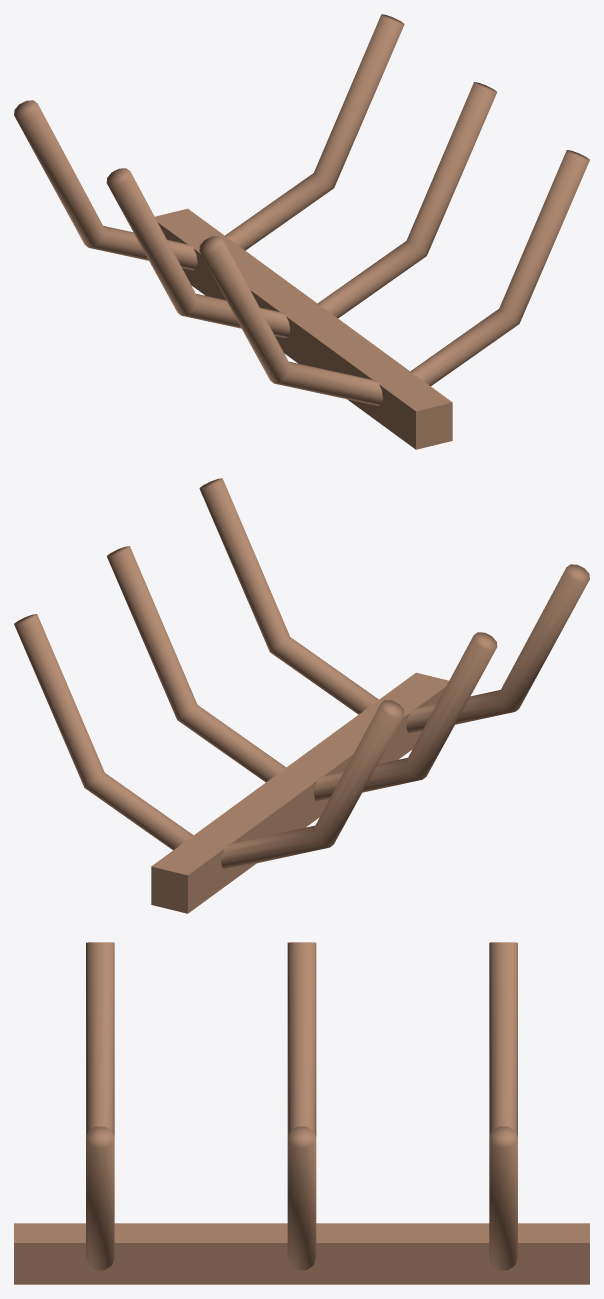
The model's file is underwater-reef-worlds-rib-frame-bb5f0a4c__7060.glb.
3 views of the same model, one above another, from view 1: azimuth 30°, elevation 25°; view 2: azimuth 150°, elevation 25°; view 3: azimuth 270°, elevation 25° (orthographic). The views are drawn at different scales.
Parts seen in each view (by area): view 1: rib-frame; view 2: rib-frame; view 3: rib-frame.
Part boxes in pixels (x1,y1,x2,y2): rib-frame: (14,14,589,449); rib-frame: (14,478,589,913); rib-frame: (14,942,589,1284).
Bounding box in the file's own units: 1.69 × 0.9212 × 2.
